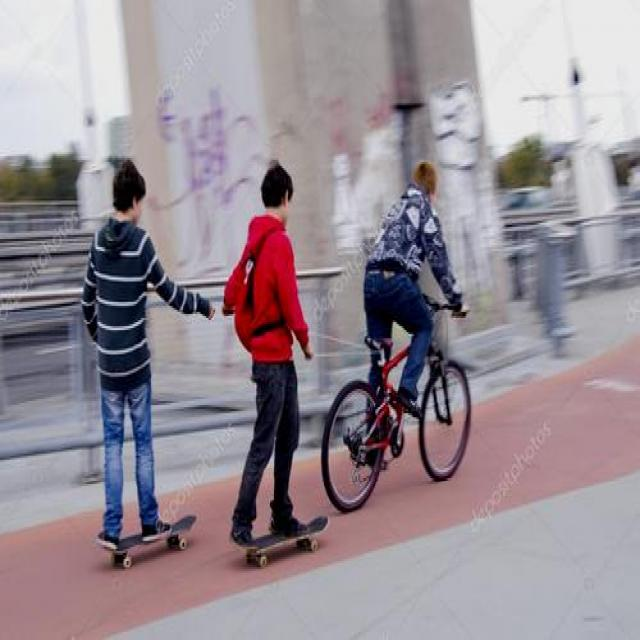bikerider: (320, 156, 477, 508)
